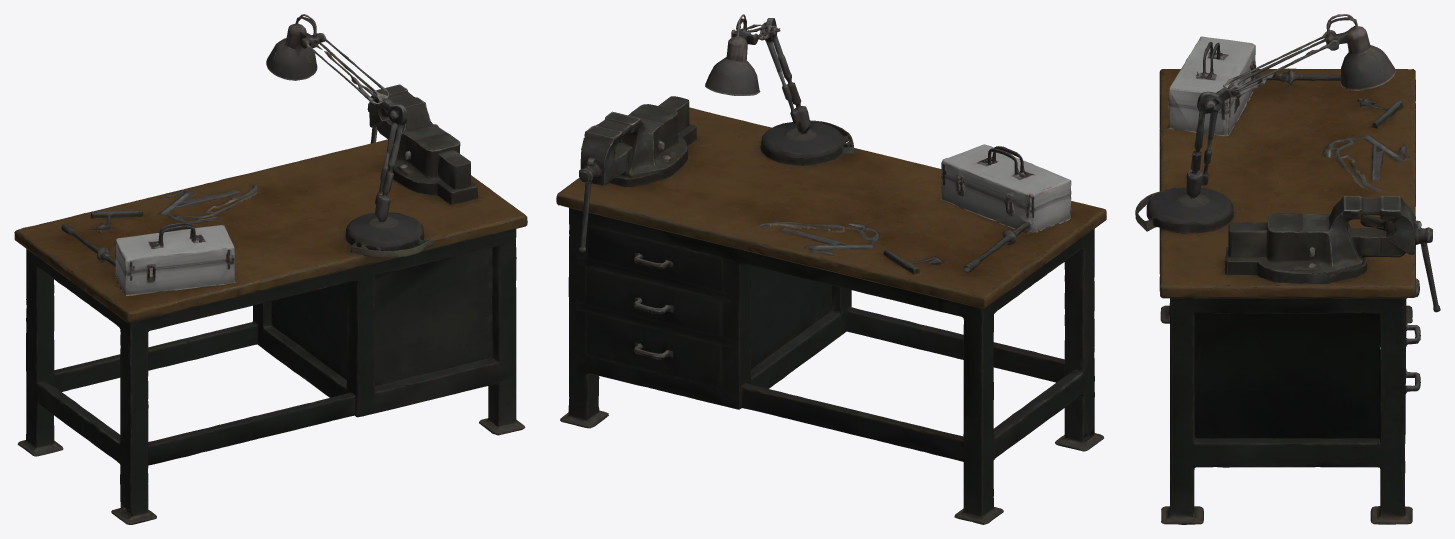
The model's file is bench.glb.
3 renders of one model, left to right at view 1: azimuth 30°, elevation 25°; view 2: azimuth 150°, elevation 25°; view 3: azimuth 270°, elevation 25°, orthographic. The views are drawn at different scales.
Parts seen in each view (by area): view 1: Mesh_0; view 2: Mesh_0; view 3: Mesh_0.
Boxes of the visible parts, x1,y1,x2,y2 form: Mesh_0: [14, 14, 527, 524]; Mesh_0: [556, 14, 1106, 524]; Mesh_0: [1135, 14, 1440, 524].
Size of the model in its own units: 1 by 0.9259 by 0.5887.
1 material, 1 textured.
